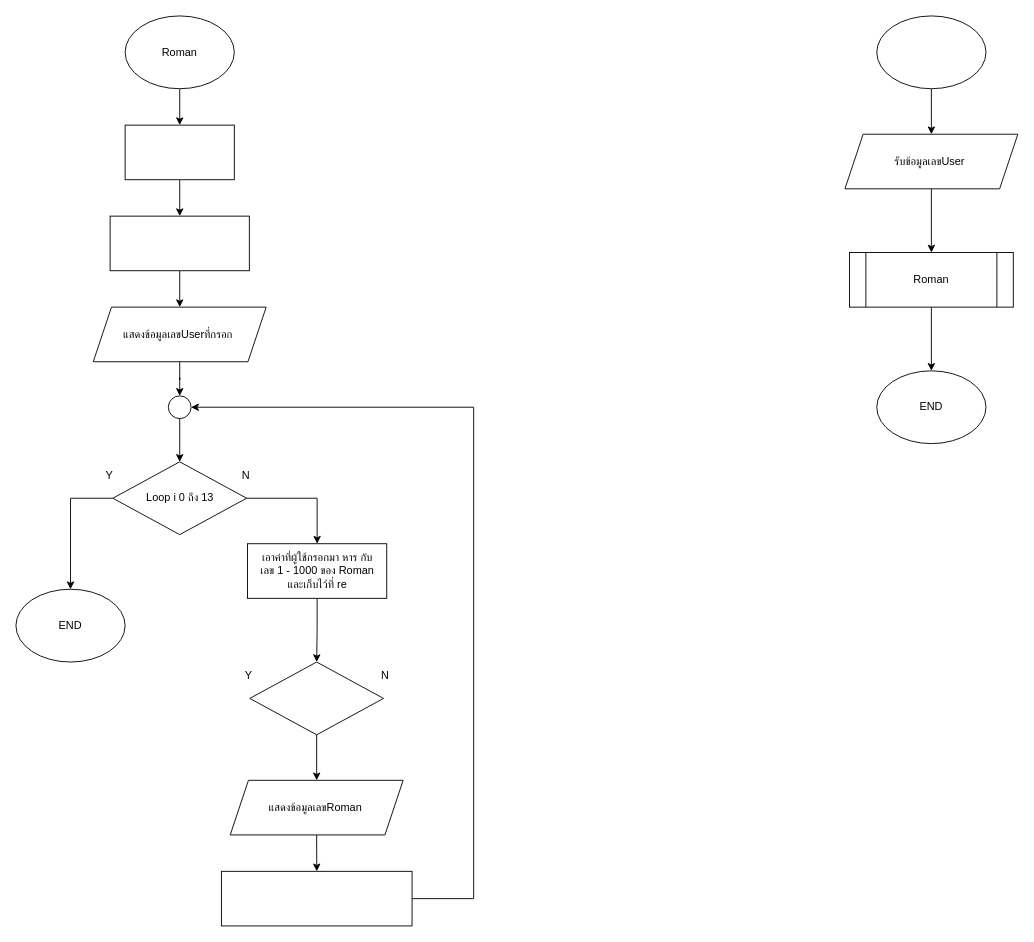
The diagram is 1034 pixels wide and 942 high, and some of its shapes have lost their labels. The centre of each missing label's shape, as x and y in pixels:
"Loop j 0 ถึง re" goes at point (316, 698).
"Start" goes at point (931, 52).
"กำหนด เลข 1 - 1000 ของ Roman" goes at point (179, 152).
"กำหนด เลขRoman I - M" goes at point (179, 243).
"ค่าที่ผู้ใช้กรอก -= re x เลขRoman" goes at point (316, 898).
